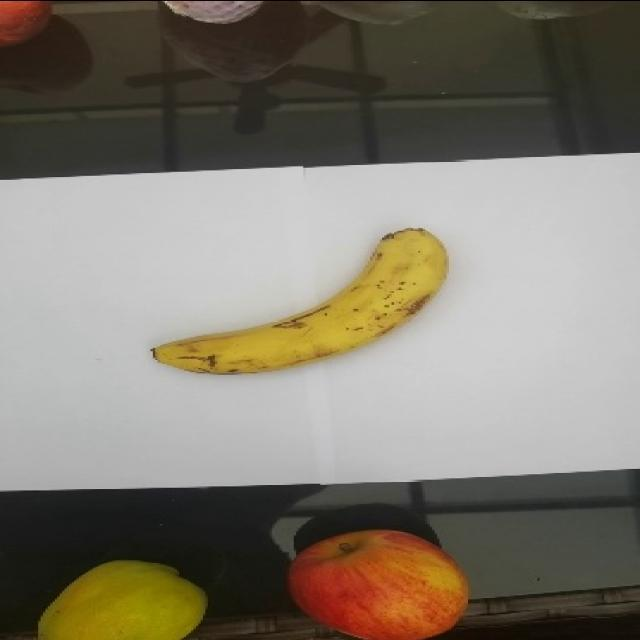Apple: (287, 528, 469, 639), (0, 0, 52, 47)
Banana: (150, 226, 448, 375)
